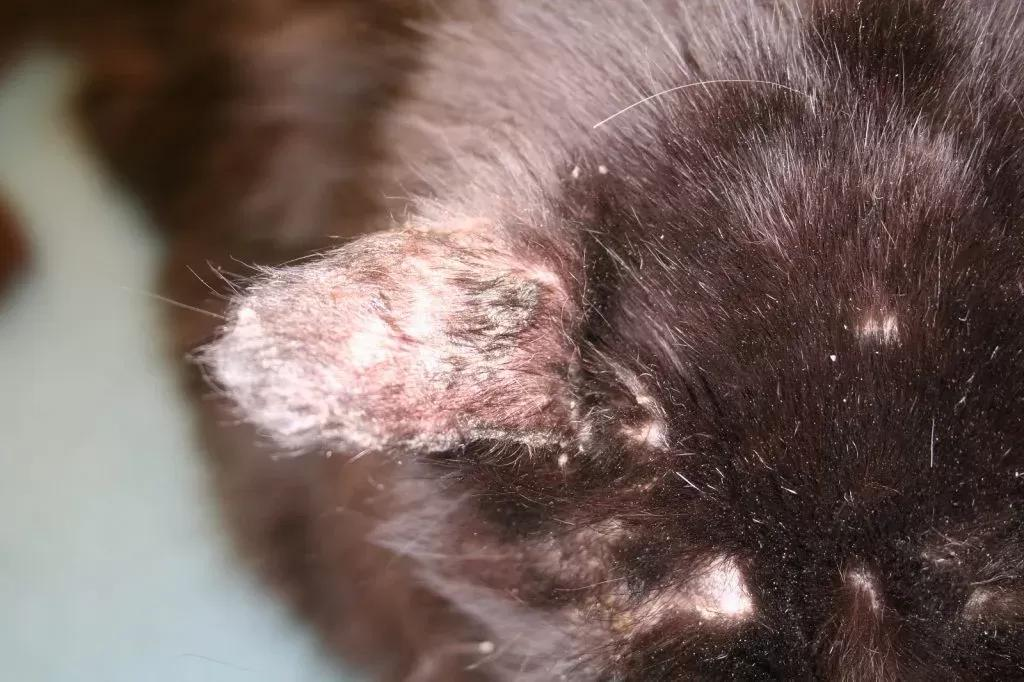ringworm: (329, 259, 542, 419)
